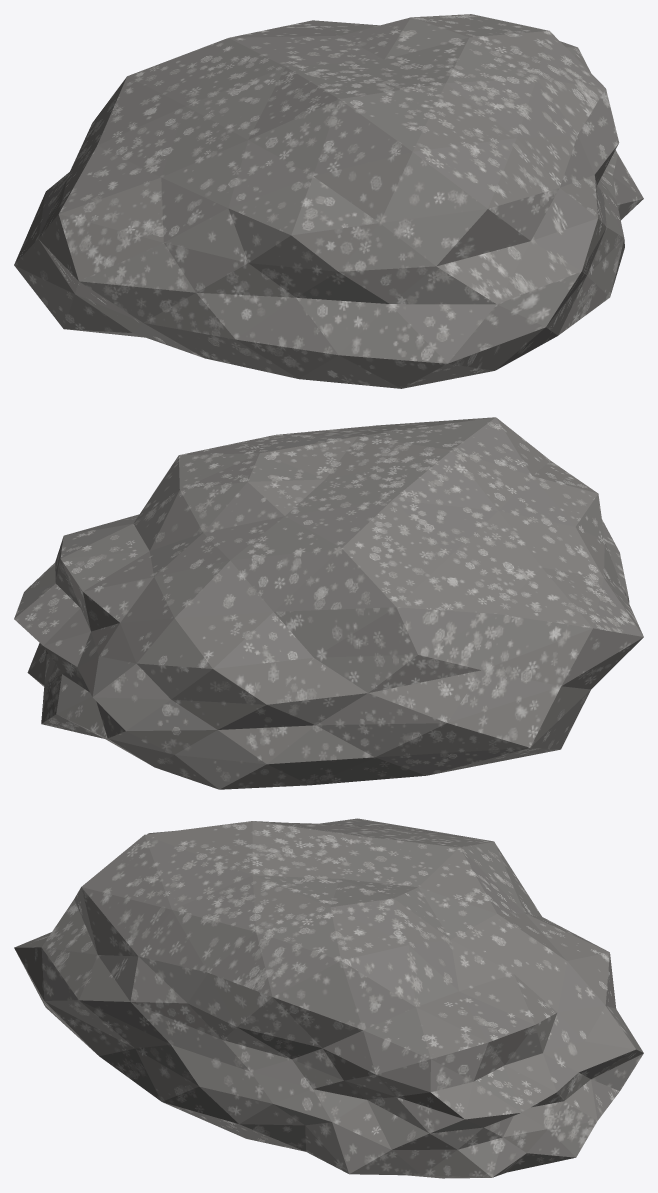
File: Rock_Flat.obj
3 renders of one model, top to bottom at view 1: azimuth 30°, elevation 25°; view 2: azimuth 150°, elevation 25°; view 3: azimuth 270°, elevation 25°, orthographic. The views are drawn at different scales.
Visible parts, largest first — view 1: Rock_Flat; view 2: Rock_Flat; view 3: Rock_Flat.
Boxes of the visible parts, left/top/right/bottom form: Rock_Flat: left=14, top=14, right=643, bottom=388; Rock_Flat: left=14, top=417, right=643, bottom=789; Rock_Flat: left=14, top=818, right=643, bottom=1178.
Size of the model in its own units: 3.89 by 1.69 by 4.
1 material, 1 textured.
